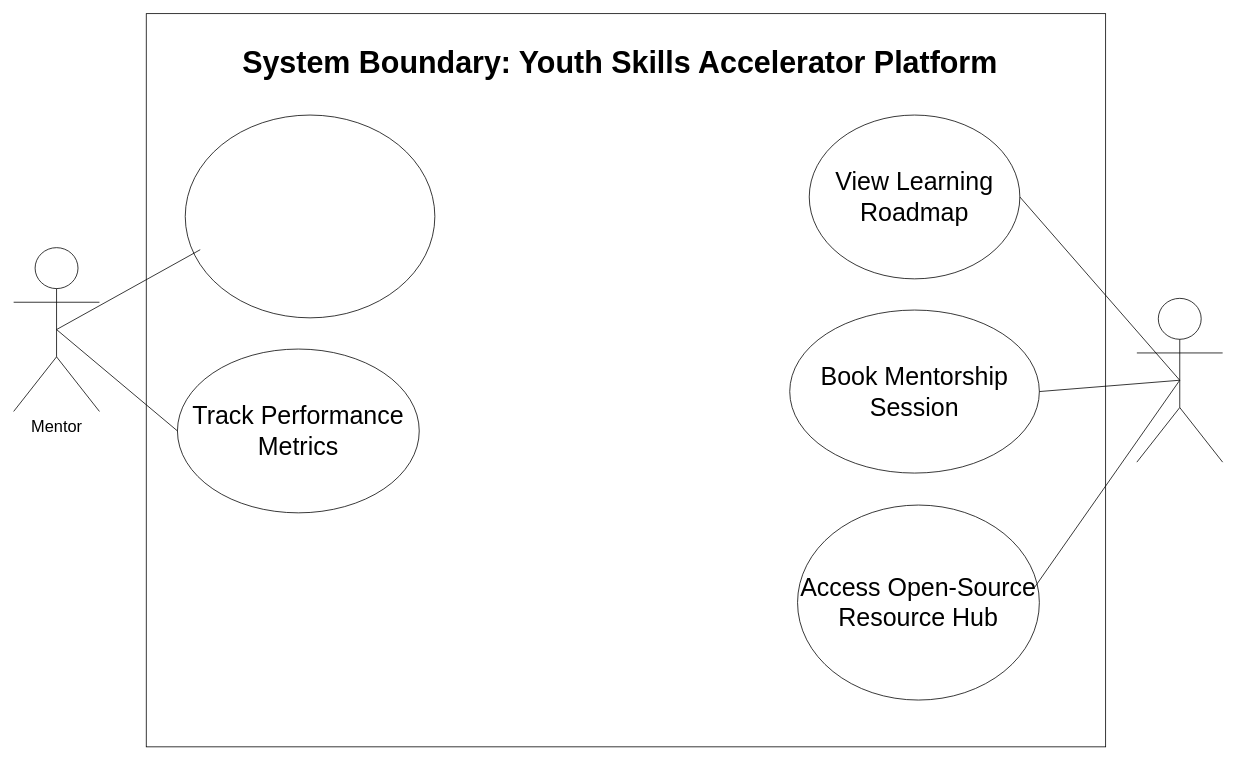
This 1236x761 diagram has some shape labels left out. Here are the shapes that lost their labels. From the top down, the box of each, then its label:
(184, 114, 435, 318): Manage Pending Requests
(1136, 298, 1223, 462): Student
